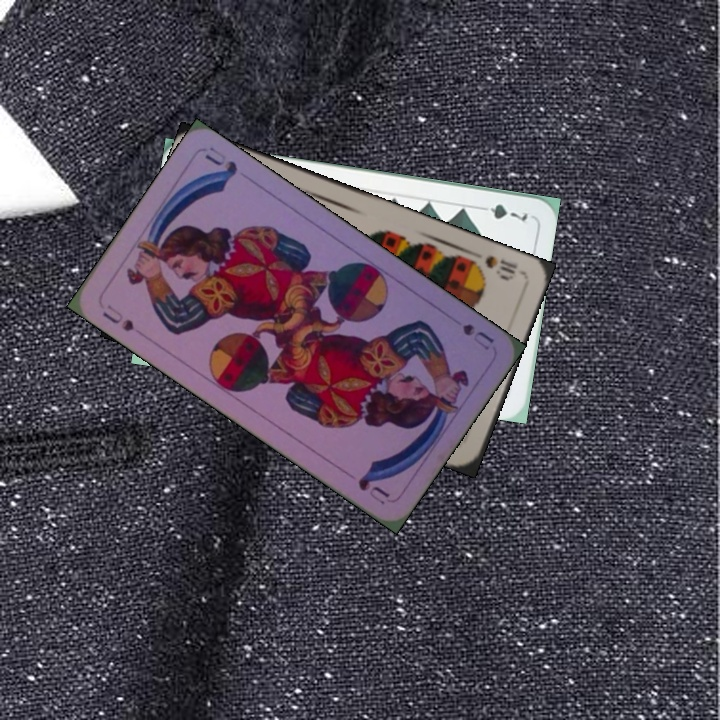G7: (473, 200, 531, 224)
S10: (466, 251, 520, 283)
SU: (458, 319, 497, 353), (98, 300, 137, 334)
